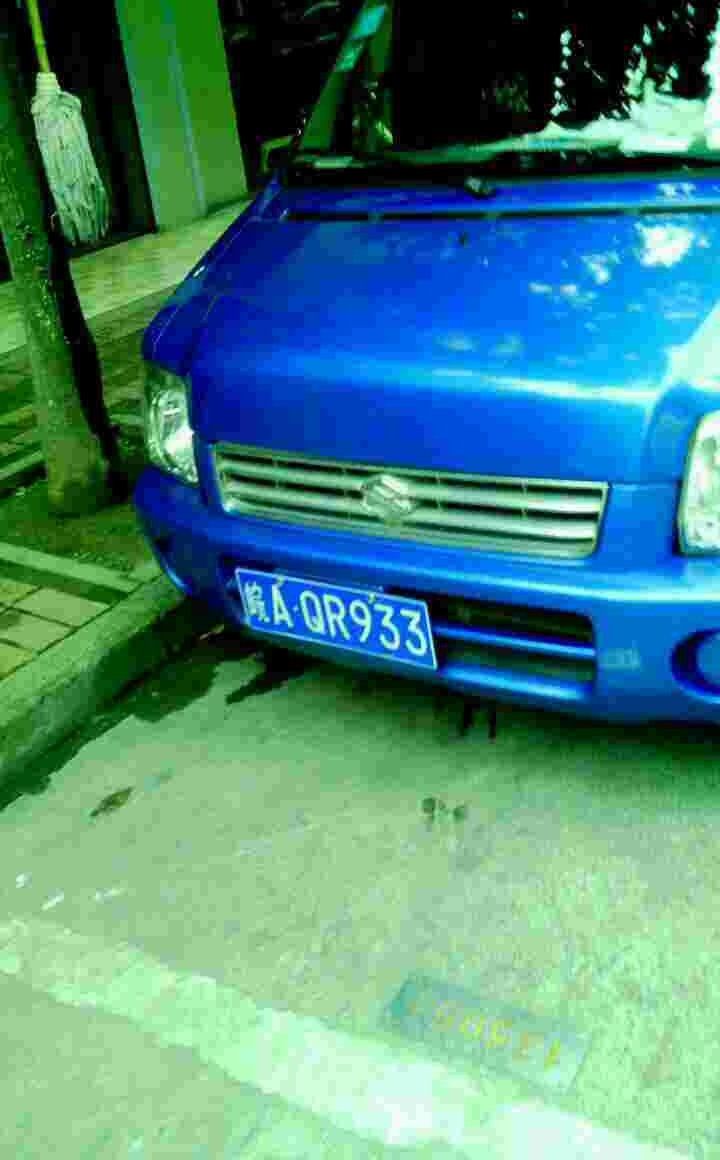license_plate: (231, 569, 440, 670)
